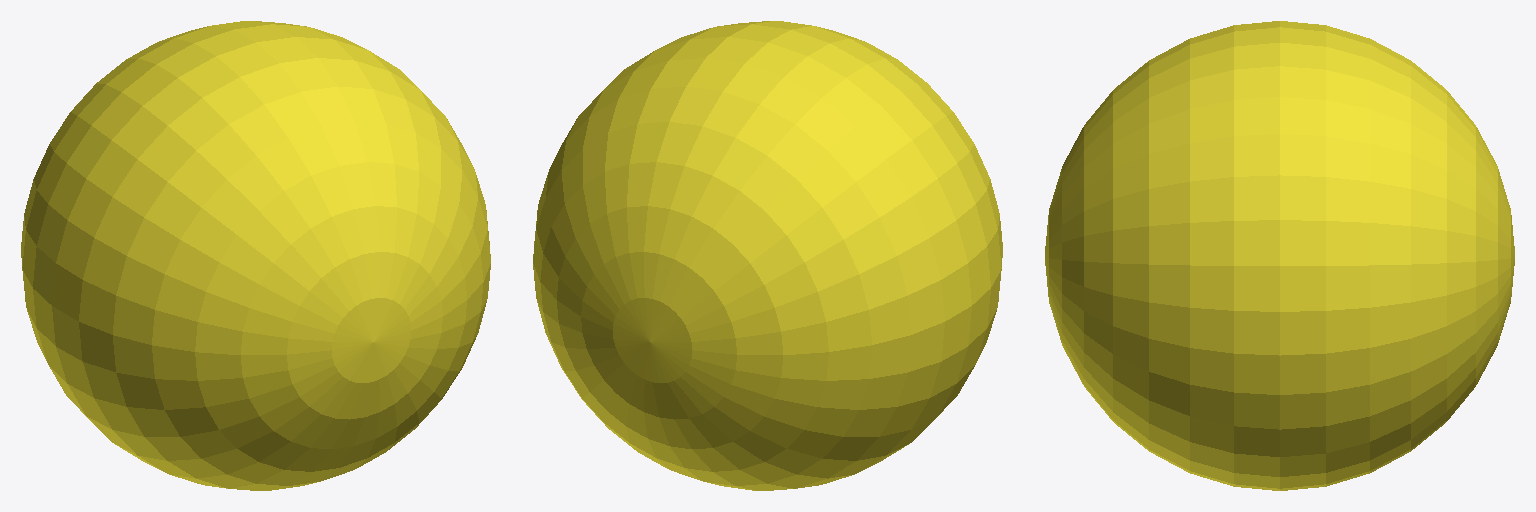
The robot description file, URDF, robot "ur3_robot":
<?xml version="1.0" ?>
<!-- <?xml version="1.0" encoding="utf-8"?> -->
<!-- =================================================================================== -->
<!-- |    This document was autogenerated by xacro from /root/catkin_ws/src/universal_robot/ur_description/urdf/ur.xacro | -->
<!-- |    EDITING THIS FILE BY HAND IS NOT RECOMMENDED                                 | -->
<!-- =================================================================================== -->
<robot name="ur3_robot">
  <!--
    Base UR robot series xacro macro.

    NOTE: this is NOT a URDF. It cannot directly be loaded by consumers
    expecting a flattened '.urdf' file. See the top-level '.xacro' for that
    (but note: that .xacro must still be processed by the xacro command).

    For use in '.launch' files: use one of the 'load_urX.launch' convenience
    launch files.

    This file models the base kinematic chain of a UR robot, which then gets
    parameterised by various configuration files to convert it into a UR3(e),
    UR5(e), UR10(e) or UR16e.

    NOTE: the default kinematic parameters (ie: link lengths, frame locations,
    offets, etc) do not correspond to any particular robot. They are defaults
    only. There WILL be non-zero offsets between the Forward Kinematics results
    in TF (ie: robot_state_publisher) and the values reported by the Teach
    Pendant.

    For accurate (and robot-specific) transforms, the 'kinematics_parameters_file'
    parameter MUST point to a .yaml file containing the appropriate values for
    the targetted robot.

    If using the UniversalRobots/Universal_Robots_ROS_Driver, follow the steps
    described in the readme of that repository to extract the kinematic
    calibration from the controller and generate the required .yaml file.

    Main author of the migration to yaml configs: [author].

    Contributors to previous versions (in no particular order):

     - [author]
     - [author]
     - [author]
     - [author]
     - [author]
     - [author]
     - [author]
     - [author]
     - [author]
     - [author]
     - [author]
     - [author]
     - [author]
     - [author]
     - [author]
     - [author]
     - [author]
  -->
  <!--
    NOTE: the macro defined in this file is NOT part of the public API of this
          package. Users CANNOT rely on this file being available, or stored in
          this location. Nor can they rely on the existence of the macro.
  -->
  <transmission name="shoulder_pan_trans">
    <type>transmission_interface/SimpleTransmission</type>
    <joint name="shoulder_pan_joint">
      <hardwareInterface>hardware_interface/PositionJointInterface</hardwareInterface>
    </joint>
    <actuator name="shoulder_pan_motor">
      <mechanicalReduction>1</mechanicalReduction>
    </actuator>
  </transmission>
  <transmission name="shoulder_lift_trans">
    <type>transmission_interface/SimpleTransmission</type>
    <joint name="shoulder_lift_joint">
      <hardwareInterface>hardware_interface/PositionJointInterface</hardwareInterface>
    </joint>
    <actuator name="shoulder_lift_motor">
      <mechanicalReduction>1</mechanicalReduction>
    </actuator>
  </transmission>
  <transmission name="elbow_trans">
    <type>transmission_interface/SimpleTransmission</type>
    <joint name="elbow_joint">
      <hardwareInterface>hardware_interface/PositionJointInterface</hardwareInterface>
    </joint>
    <actuator name="elbow_motor">
      <mechanicalReduction>1</mechanicalReduction>
    </actuator>
  </transmission>
  <transmission name="wrist_1_trans">
    <type>transmission_interface/SimpleTransmission</type>
    <joint name="wrist_1_joint">
      <hardwareInterface>hardware_interface/PositionJointInterface</hardwareInterface>
    </joint>
    <actuator name="wrist_1_motor">
      <mechanicalReduction>1</mechanicalReduction>
    </actuator>
  </transmission>
  <transmission name="wrist_2_trans">
    <type>transmission_interface/SimpleTransmission</type>
    <joint name="wrist_2_joint">
      <hardwareInterface>hardware_interface/PositionJointInterface</hardwareInterface>
    </joint>
    <actuator name="wrist_2_motor">
      <mechanicalReduction>1</mechanicalReduction>
    </actuator>
  </transmission>
  <transmission name="wrist_3_trans">
    <type>transmission_interface/SimpleTransmission</type>
    <joint name="wrist_3_joint">
      <hardwareInterface>hardware_interface/PositionJointInterface</hardwareInterface>
    </joint>
    <actuator name="wrist_3_motor">
      <mechanicalReduction>1</mechanicalReduction>
    </actuator>
  </transmission>
  <!-- links: main serial chain -->
  <link name="base_link"/>
  <link name="base_link_inertia">
    <visual>
      <origin rpy="0 0 3.14159265359" xyz="0 0 0"/>
      <geometry>
        <mesh filename="meshes/ur3/visual/base.dae"/>
      </geometry>
      <material name="LightGrey">
        <color rgba="0.7 0.7 0.7 1.0"/>
      </material>
    </visual>
    <collision>
      <origin rpy="0 0 3.14159265359" xyz="0 0 0"/>
      <geometry>
        <mesh filename="meshes/ur3/collision/base.stl"/>
      </geometry>
    </collision>
    <inertial>
      <mass value="2.0"/>
      <origin rpy="0 0 0" xyz="0 0 0"/>
      <inertia ixx="0.0030531654454" ixy="0.0" ixz="0.0" iyy="0.0030531654454" iyz="0.0" izz="0.005625"/>
    </inertial>
  </link>
  <link name="shoulder_link">
    <visual>
      <origin rpy="0 0 3.14159265359" xyz="0 0 0"/>
      <geometry>
        <mesh filename="meshes/ur3/visual/shoulder.dae"/>
      </geometry>
      <material name="LightGrey">
        <color rgba="0.7 0.7 0.7 1.0"/>
      </material>
    </visual>
    <collision>
      <origin rpy="0 0 3.14159265359" xyz="0 0 0"/>
      <geometry>
        <mesh filename="meshes/ur3/collision/shoulder.stl"/>
      </geometry>
    </collision>
    <inertial>
      <mass value="2.0"/>
      <origin rpy="0 0 0" xyz="0 0 0"/>
      <inertia ixx="0.0080931634294" ixy="0.0" ixz="0.0" iyy="0.0080931634294" iyz="0.0" izz="0.005625"/>
    </inertial>
  </link>
  <link name="upper_arm_link">
    <visual>
      <origin rpy="1.57079632679 0 -1.57079632679" xyz="0 0 0.1198"/>
      <geometry>
        <mesh filename="meshes/ur3/visual/upperarm.dae"/>
      </geometry>
      <material name="LightGrey">
        <color rgba="0.7 0.7 0.7 1.0"/>
      </material>
    </visual>
    <collision>
      <origin rpy="1.57079632679 0 -1.57079632679" xyz="0 0 0.1198"/>
      <geometry>
        <mesh filename="meshes/ur3/collision/upperarm.stl"/>
      </geometry>
    </collision>
    <inertial>
      <mass value="3.42"/>
      <origin rpy="0 1.57079632679 0" xyz="-0.121825 0.0 0.12"/>
      <inertia ixx="0.0217284832211" ixy="0.0" ixz="0.0" iyy="0.0217284832211" iyz="0.0" izz="0.00961875"/>
    </inertial>
  </link>
  <link name="forearm_link">
    <visual>
      <origin rpy="1.57079632679 0 -1.57079632679" xyz="0 0 0.0275"/>
      <geometry>
        <mesh filename="meshes/ur3/visual/forearm.dae"/>
      </geometry>
      <material name="LightGrey">
        <color rgba="0.7 0.7 0.7 1.0"/>
      </material>
    </visual>
    <collision>
      <origin rpy="1.57079632679 0 -1.57079632679" xyz="0 0 0.0275"/>
      <geometry>
        <mesh filename="meshes/ur3/collision/forearm.stl"/>
      </geometry>
    </collision>
    <inertial>
      <mass value="1.26"/>
      <origin rpy="0 1.57079632679 0" xyz="-0.106625 0.0 0.0275"/>
      <inertia ixx="0.00654680644378" ixy="0.0" ixz="0.0" iyy="0.00654680644378" iyz="0.0" izz="0.00354375"/>
    </inertial>
  </link>
  <link name="wrist_1_link">
    <visual>
      <!-- TODO: Move this to a parameter -->
      <origin rpy="1.57079632679 0 0" xyz="0 0 -0.085"/>
      <geometry>
        <mesh filename="meshes/ur3/visual/wrist1.dae"/>
      </geometry>
      <material name="LightGrey">
        <color rgba="0.7 0.7 0.7 1.0"/>
      </material>
    </visual>
    <collision>
      <origin rpy="1.57079632679 0 0" xyz="0 0 -0.085"/>
      <geometry>
        <mesh filename="meshes/ur3/collision/wrist1.stl"/>
      </geometry>
    </collision>
    <inertial>
      <mass value="0.8"/>
      <origin rpy="0 0 0" xyz="0 0 0"/>
      <inertia ixx="0.00161064085574" ixy="0.0" ixz="0.0" iyy="0.00161064085574" iyz="0.0" izz="0.00225"/>
    </inertial>
  </link>
  <link name="wrist_2_link">
    <visual>
      <origin rpy="0 0 0" xyz="0 0 -0.085"/>
      <geometry>
        <mesh filename="meshes/ur3/visual/wrist2.dae"/>
      </geometry>
      <material name="LightGrey">
        <color rgba="0.7 0.7 0.7 1.0"/>
      </material>
    </visual>
    <collision>
      <origin rpy="0 0 0" xyz="0 0 -0.085"/>
      <geometry>
        <mesh filename="meshes/ur3/collision/wrist2.stl"/>
      </geometry>
    </collision>
    <inertial>
      <mass value="0.8"/>
      <origin rpy="0 0 0" xyz="0 0 0"/>
      <inertia ixx="0.00157217337113" ixy="0.0" ixz="0.0" iyy="0.00157217337113" iyz="0.0" izz="0.00225"/>
    </inertial>
  </link>
  <link name="wrist_3_link">
    <visual>
      <origin rpy="1.57079632679 0 0" xyz="0 0 -0.082"/>
      <geometry>
        <mesh filename="meshes/ur3/visual/wrist3.dae"/>
      </geometry>
      <material name="LightGrey">
        <color rgba="0.7 0.7 0.7 1.0"/>
      </material>
    </visual>
    <collision>
      <origin rpy="1.57079632679 0 0" xyz="0 0 -0.082"/>
      <geometry>
        <mesh filename="meshes/ur3/collision/wrist3.stl"/>
      </geometry>
    </collision>
    <inertial>
      <mass value="0.35"/>
      <origin rpy="0 0 0" xyz="0.0 0.0 -0.02"/>
      <inertia ixx="0.00013626661216" ixy="0.0" ixz="0.0" iyy="0.00013626661216" iyz="0.0" izz="0.0001792"/>
    </inertial>
  </link>
  <!-- joints: main serial chain -->
  <joint name="base_link-base_link_inertia" type="fixed">
    <parent link="base_link"/>
    <child link="base_link_inertia"/>
    <!-- 'base_link' is REP-103 aligned (so X+ forward), while the internal
           frames of the robot/controller have X+ pointing backwards.
           Use the joint between 'base_link' and 'base_link_inertia' (a dummy
           link/frame) to introduce the necessary rotation over Z (of pi rad).
      -->
    <origin rpy="0 0 3.14159265359" xyz="0 0 0"/>
  </joint>
  <joint name="shoulder_pan_joint" type="revolute">
    <parent link="base_link_inertia"/>
    <child link="shoulder_link"/>
    <origin rpy="0 0 0" xyz="0 0 0.1519"/>
    <axis xyz="0 0 1"/>
    <limit effort="56.0" lower="-3.1415" upper="3.1415" velocity="3.1415"/>
    <dynamics damping="0" friction="0"/>
  </joint>
  <joint name="shoulder_lift_joint" type="revolute">
    <parent link="shoulder_link"/>
    <child link="upper_arm_link"/>
    <origin rpy="1.570796327 0 0" xyz="0 0 0"/>
    <axis xyz="0 0 1"/>
    <limit effort="56.0" lower="-3.1415" upper="3.1415" velocity="3.1415"/>
    <dynamics damping="0" friction="0"/>
  </joint>
  <joint name="elbow_joint" type="revolute">
    <parent link="upper_arm_link"/>
    <child link="forearm_link"/>
    <origin rpy="0 0 0" xyz="-0.24365 0 0"/>
    <axis xyz="0 0 1"/>
    <limit effort="28.0" lower="-3.1415" upper="3.1415" velocity="3.1415"/>
    <dynamics damping="0" friction="0"/>
  </joint>
  <joint name="wrist_1_joint" type="revolute">
    <parent link="forearm_link"/>
    <child link="wrist_1_link"/>
    <origin rpy="0 0 0" xyz="-0.21325 0 0.11235"/>
    <axis xyz="0 0 1"/>
    <limit effort="12.0" lower="-3.1415" upper="3.1415" velocity="6.28318530718"/>
    <dynamics damping="0" friction="0"/>
  </joint>
  <joint name="wrist_2_joint" type="revolute">
    <parent link="wrist_1_link"/>
    <child link="wrist_2_link"/>
    <origin rpy="1.570796327 0 0" xyz="0 -0.08535 -1.75055776238e-11"/>
    <axis xyz="0 0 1"/>
    <limit effort="12.0" lower="-3.1415" upper="3.1415" velocity="6.28318530718"/>
    <dynamics damping="0" friction="0"/>
  </joint>
  <joint name="wrist_3_joint" type="revolute">
    <parent link="wrist_2_link"/>
    <child link="wrist_3_link"/>
    <origin rpy="1.57079632659 3.14159265359 3.14159265359" xyz="0 0.0819 -1.67979707954e-11"/>
    <axis xyz="0 0 1"/>
    <limit effort="12.0" lower="-3.1415" upper="3.1415" velocity="6.28318530718"/>
    <dynamics damping="0" friction="0"/>
  </joint>
  <!-- ROS-Industrial 'base' frame: base_link to UR 'Base' Coordinates transform -->
  <link name="base"/>
  <joint name="base_link-base_fixed_joint" type="fixed">
    <!-- Note the rotation over Z of pi radians: as base_link is REP-103
           aligned (ie: has X+ forward, Y+ left and Z+ up), this is needed
           to correctly align 'base' with the 'Base' coordinate system of
           the UR controller.
      -->
    <origin rpy="0 0 3.14159265359" xyz="0 0 0"/>
    <parent link="base_link"/>
    <child link="base"/>
  </joint>
  <!-- ROS-Industrial 'flange' frame: attachment point for EEF models -->
  <link name="flange"/>
  <joint name="wrist_3-flange" type="fixed">
    <parent link="wrist_3_link"/>
    <child link="flange"/>
    <origin rpy="0 -1.57079632679 -1.57079632679" xyz="0 0 0"/>
  </joint>

  <link name="robotiq_85_base_link">
      <visual>
        <geometry>
          <mesh filename="meshes/robotiq_85_gripper/visual/robotiq_85_base_link.dae"/>
        </geometry>
      </visual>
      <collision>
        <geometry>
          <mesh filename="meshes/robotiq_85_gripper/collision/robotiq_85_base_link.stl"/>
        </geometry>
      </collision>
      <inertial>
        <mass value="0.636951" />
        <origin xyz="0.0 0.0 0.0" />
        <inertia ixx = "0.000380" ixy = "0.000000" ixz = "0.000000"
             iyx = "0.000000" iyy = "0.001110" iyz = "0.000000"
             izx = "0.000000" izy = "0.000000" izz = "0.001171" />
      </inertial>
    </link>

    <!-- <joint name="robotiq_85_left_knuckle_joint" type="revolute"> -->
    <joint name="robotiq_85_left_knuckle_joint" type="fixed">
      <parent link="robotiq_85_base_link"/>
      <child link="robotiq_85_left_knuckle_link"/>
      <axis xyz="0 0 1"/>
      <origin rpy="3.14 0.0 0.0" xyz="0.05490451627 0.03060114443 0.0"/>
      <!-- <limit lower="0.0" upper="0.80285" velocity="3.14" effort="1000"/> -->
    </joint>

    <!-- <joint name="robotiq_85_right_knuckle_joint" type="revolute"> -->
    <joint name="robotiq_85_right_knuckle_joint" type="fixed">
      <parent link="robotiq_85_base_link"/>
      <child link="robotiq_85_right_knuckle_link"/>
      <axis xyz="0 0 1"/>
      <origin rpy="0.0 0.0 0.0" xyz="0.05490451627 -0.03060114443 0.0"/>
      <!-- <limit lower="-3.14" upper="3.14" velocity="3.14" effort="1000"/>
      <mimic joint="robotiq_85_left_knuckle_joint"/> -->
    </joint>

    <link name="robotiq_85_left_knuckle_link">
      <visual>
        <geometry>
          <mesh filename="meshes/robotiq_85_gripper/visual/robotiq_85_knuckle_link.dae"/>
        </geometry>
      </visual>
      <collision>
        <geometry>
          <mesh filename="meshes/robotiq_85_gripper/collision/robotiq_85_knuckle_link.stl"/>
        </geometry>
      </collision>
      <inertial>
        <mass value="0.018491" />
        <origin xyz="0.0 0.0 0.0" />
        <inertia ixx = "0.000009" ixy = "-0.000001" ixz = "0.000000"
             iyx = "-0.000001" iyy = "0.000001" iyz = "0.000000"
             izx = "0.000000" izy = "0.000000" izz = "0.000010" />
      </inertial>
    </link>

    <link name="robotiq_85_right_knuckle_link">
      <visual>
        <geometry>
          <mesh filename="meshes/robotiq_85_gripper/visual/robotiq_85_knuckle_link.dae"/>
        </geometry>
      </visual>
      <collision>
        <geometry>
          <mesh filename="meshes/robotiq_85_gripper/collision/robotiq_85_knuckle_link.stl"/>
        </geometry>
      </collision>
      <inertial>
        <mass value="0.018491" />
        <origin xyz="0.0 0.0 0.0" />
        <inertia ixx = "0.000009" ixy = "-0.000001" ixz = "0.000000"
             iyx = "-0.000001" iyy = "0.000001" iyz = "0.000000"
             izx = "0.000000" izy = "0.000000" izz = "0.000010" />
      </inertial>
    </link>

    <joint name="robotiq_85_left_finger_joint" type="fixed">
      <parent link="robotiq_85_left_knuckle_link"/>
      <child link="robotiq_85_left_finger_link"/>
      <origin xyz="-0.00408552455 -0.03148604435 0.0" rpy="0 0 0" />
    </joint>

    <joint name="robotiq_85_right_finger_joint" type="fixed">
      <parent link="robotiq_85_right_knuckle_link"/>
      <child link="robotiq_85_right_finger_link"/>
      <origin xyz="-0.00408552455 -0.03148604435 0.0" rpy="0 0 0" />
    </joint>

    <link name="robotiq_85_left_finger_link">
      <visual>
        <geometry>
          <mesh filename="meshes/robotiq_85_gripper/visual/robotiq_85_finger_link.dae"/>
        </geometry>
      </visual>
      <collision>
        <geometry>
          <mesh filename="meshes/robotiq_85_gripper/collision/robotiq_85_finger_link.stl"/>
        </geometry>
      </collision>
      <inertial>
        <mass value="0.027309" />
        <origin xyz="0.0 0.0 0.0" />
        <inertia ixx = "0.000003" ixy = "-0.000002" ixz = "0.000000"
             iyx = "-0.000002" iyy = "0.000021" iyz = "0.000000"
             izx = "0.000000" izy = "0.000000" izz = "0.000020" />
      </inertial>
    </link>

    <link name="robotiq_85_right_finger_link">
      <visual>
        <geometry>
          <mesh filename="meshes/robotiq_85_gripper/visual/robotiq_85_finger_link.dae"/>
        </geometry>
      </visual>
      <collision>
        <geometry>
          <mesh filename="meshes/robotiq_85_gripper/collision/robotiq_85_finger_link.stl"/>
        </geometry>
      </collision>
      <inertial>
        <mass value="0.027309" />
        <origin xyz="0.0 0.0 0.0" />
        <inertia ixx = "0.000003" ixy = "-0.000002" ixz = "0.000000"
             iyx = "-0.000002" iyy = "0.000021" iyz = "0.000000"
             izx = "0.000000" izy = "0.000000" izz = "0.000020" />
      </inertial>
    </link>

    <!-- <joint name="robotiq_85_left_inner_knuckle_joint" type="revolute"> -->
    <joint name="robotiq_85_left_inner_knuckle_joint" type="fixed">
      <parent link="robotiq_85_base_link"/>
      <child link="robotiq_85_left_inner_knuckle_link"/>
      <axis xyz="0 0 1"/>
      <origin xyz="0.06142 0.0127 0" rpy="3.14 0.0 0.0" />
      <!-- <limit lower="-3.14" upper="3.14" velocity="3.14" effort="0.1"/>
      <mimic joint="robotiq_85_left_knuckle_joint" offset="0"/> -->
    </joint>

    <!-- <joint name="robotiq_85_right_inner_knuckle_joint" type="revolute"> -->
    <joint name="robotiq_85_right_inner_knuckle_joint" type="fixed">
      <parent link="robotiq_85_base_link"/>
      <child link="robotiq_85_right_inner_knuckle_link"/>
      <axis xyz="0 0 1"/>
      <origin xyz="0.06142 -0.0127 0" rpy="0 0 0"/>
      <!-- <limit lower="-3.14" upper="3.14" velocity="3.14" effort="0.1"/>
      <mimic joint="robotiq_85_left_knuckle_joint" offset="0"/> -->
    </joint>

    <link name="robotiq_85_left_inner_knuckle_link">
      <visual>
        <geometry>
          <mesh filename="meshes/robotiq_85_gripper/visual/robotiq_85_inner_knuckle_link.dae"/>
        </geometry>
      </visual>
      <collision>
        <geometry>
          <mesh filename="meshes/robotiq_85_gripper/collision/robotiq_85_inner_knuckle_link.stl"/>
        </geometry>
      </collision>
      <inertial>
        <mass value="0.029951" />
        <origin xyz="0.0 0.0 0.0" />
        <inertia ixx = "0.000039" ixy = "0.000000" ixz = "0.000000"
             iyx = "0.000000" iyy = "0.000005" iyz = "0.000000"
             izx = "0.000000" izy = "0.000000" izz = "0.000035" />
      </inertial>
    </link>
    <link name="robotiq_85_right_inner_knuckle_link">
      <visual>
        <geometry>
          <mesh filename="meshes/robotiq_85_gripper/visual/robotiq_85_inner_knuckle_link.dae"/>
        </geometry>
      </visual>
      <collision>
        <geometry>
          <mesh filename="meshes/robotiq_85_gripper/collision/robotiq_85_inner_knuckle_link.stl"/>
        </geometry>
      </collision>
      <inertial>
        <mass value="0.029951" />
        <origin xyz="0.0 0.0 0.0" />
        <inertia ixx = "0.000039" ixy = "0.000000" ixz = "0.000000"
             iyx = "0.000000" iyy = "0.000005" iyz = "0.000000"
             izx = "0.000000" izy = "0.000000" izz = "0.000035" />
      </inertial>
    </link>

    <!-- <joint name="robotiq_85_left_finger_tip_joint" type="revolute"> -->
    <joint name="robotiq_85_left_finger_tip_joint" type="fixed">
      <parent link="robotiq_85_left_inner_knuckle_link"/>
      <child link="robotiq_85_left_finger_tip_link"/>
      <axis xyz="0 0 1"/>
      <origin xyz="0.04303959807 -0.03759940821 0.0" rpy="0.0 0.0 0.0"/>
      <!-- <limit lower="-3.14" upper="3.14" velocity="3.14" effort="0.1"/>
      <mimic joint="robotiq_85_left_knuckle_joint" multiplier="-1"/> -->
    </joint>

    <!-- <joint name="robotiq_85_right_finger_tip_joint" type="revolute"> -->
    <joint name="robotiq_85_right_finger_tip_joint" type="fixed">
      <parent link="robotiq_85_right_inner_knuckle_link"/>
      <child link="robotiq_85_right_finger_tip_link"/>
      <axis xyz="0 0 1"/>
      <origin rpy="0.0 0.0 0.0" xyz="0.04303959807 -0.03759940821  0.0"/>
      <!-- <limit lower="-3.14" upper="3.14" velocity="3.14" effort="0.1"/>
      <mimic joint="robotiq_85_left_knuckle_joint" multiplier="-1"/> -->
    </joint>


    <link name="robotiq_85_left_finger_tip_link">
      <visual>
        <geometry>
          <mesh filename="meshes/robotiq_85_gripper/visual/robotiq_85_finger_tip_link.dae"/>
        </geometry>
      </visual>
      <collision>
        <geometry>
          <mesh filename="meshes/robotiq_85_gripper/collision/robotiq_85_finger_tip_link.stl"/>
        </geometry>
      </collision>
      <inertial>
        <mass value="0.019555" />
        <origin xyz="0.0 0.0 0.0" />
        <inertia ixx = "0.000002" ixy = "0.000000" ixz = "0.000000"
             iyx = "0.000000" iyy = "0.000005" iyz = "0.000000"
             izx = "0.000000" izy = "0.000000" izz = "0.000006" />
      </inertial>
    </link>

    <link name="robotiq_85_right_finger_tip_link">
      <visual>
        <geometry>
          <mesh filename="meshes/robotiq_85_gripper/visual/robotiq_85_finger_tip_link.dae"/>
        </geometry>
      </visual>
      <collision>
        <geometry>
          <mesh filename="meshes/robotiq_85_gripper/collision/robotiq_85_finger_tip_link.stl"/>
        </geometry>
      </collision>
      <inertial>
        <mass value="0.019555" />
        <origin xyz="0.0 0.0 0.0" />
        <inertia ixx = "0.000002" ixy = "0.000000" ixz = "0.000000"
             iyx = "0.000000" iyy = "0.000005" iyz = "0.000000"
             izx = "0.000000" izy = "0.000000" izz = "0.000006" />
      </inertial>
    </link>

    <link name="gripper_base_target">
      <visual>
        <geometry>
          <sphere radius="0.01"/>
        </geometry>
      </visual>
    </link>
    <joint name="gripper_parent_to_target" type="fixed">
      <parent link="flange"/>
      <child link="gripper_base_target"/>
      <origin rpy="1.57079632679 1.57079632679 1.57079632679" xyz="0.05 0 0"/>
    </joint>

    <joint name="arm_gripper_joint" type="fixed">
      <parent link="flange"/>
      <child link="robotiq_85_base_link"/>
      <origin rpy="0.0 0.0 0.0" xyz="0.0 0.0 0.0"/>
    </joint>

</robot>

--- What the picture shows (computed from the rendered views, not written in the file) ---
The picture shows the robot from 3 angles, left to right: view 1: azimuth 30°, elevation 25°; view 2: azimuth 150°, elevation 25°; view 3: azimuth 270°, elevation 25°; orthographic projection.
Model ur3_robot with 20 links and 19 joints (6 revolute, 13 fixed), rooted at base_link, posed all joints at 0.
Links seen in each view (by area): view 1: gripper_base_target; view 2: gripper_base_target; view 3: gripper_base_target.
Link boxes in pixels (x1,y1,x2,y2): gripper_base_target: [21, 21, 490, 490]; gripper_base_target: [533, 21, 1002, 490]; gripper_base_target: [1045, 21, 1514, 490].
Size in the robot's own frame: 0.02 by 0.02 by 0.02 metres.
0 mesh visuals loaded from 12 distinct referenced files (none loaded); not drawn: 16 (reference not matched to a file when rendering).